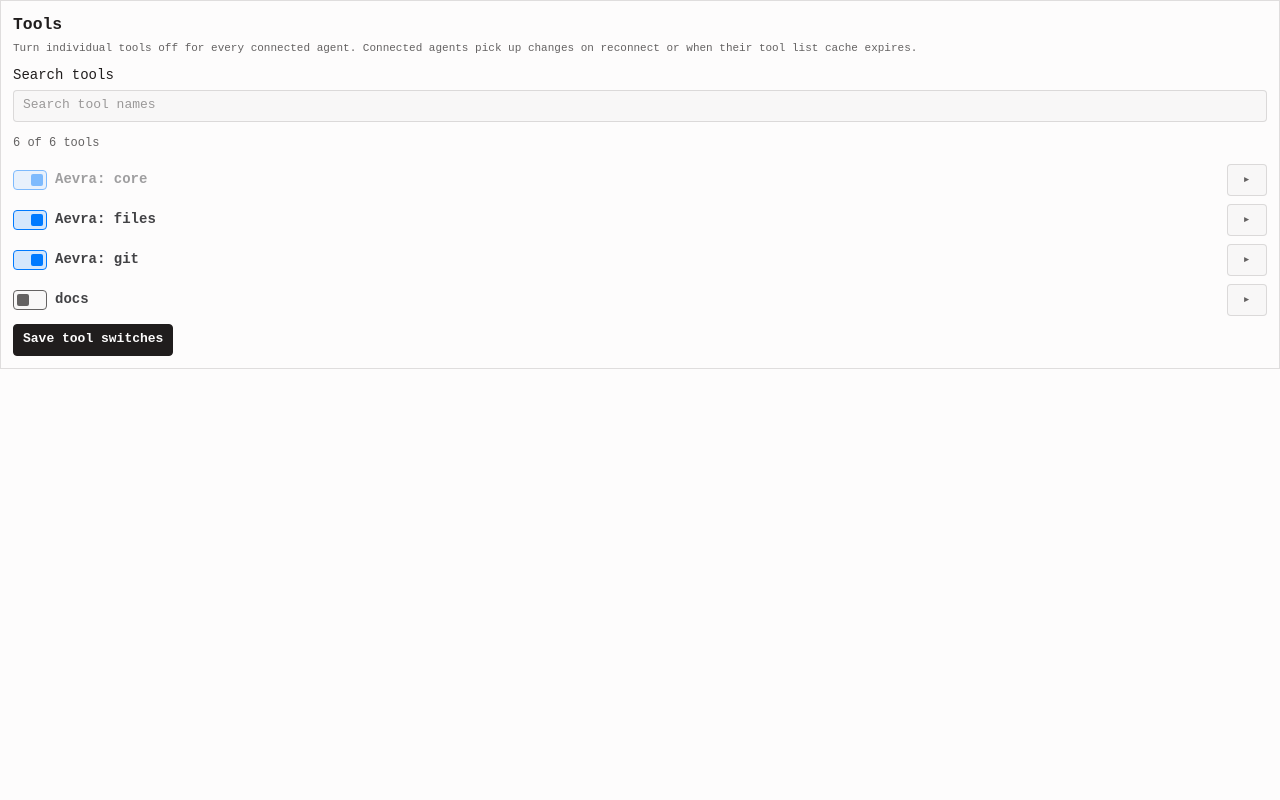
ToolSwitchSettings › saves one PUT with the disabled names and toasts
expect the heading "Tools" is shown: met, box [13,15,62,34]
expect the text "Aevra: files" is shown: met, box [55,211,156,227]
What coordinates should you click on to do the following:
click the button named "Expand Aevra: git"
I would click on:
 (1247, 260)
Its box is [1227,244,1267,276].
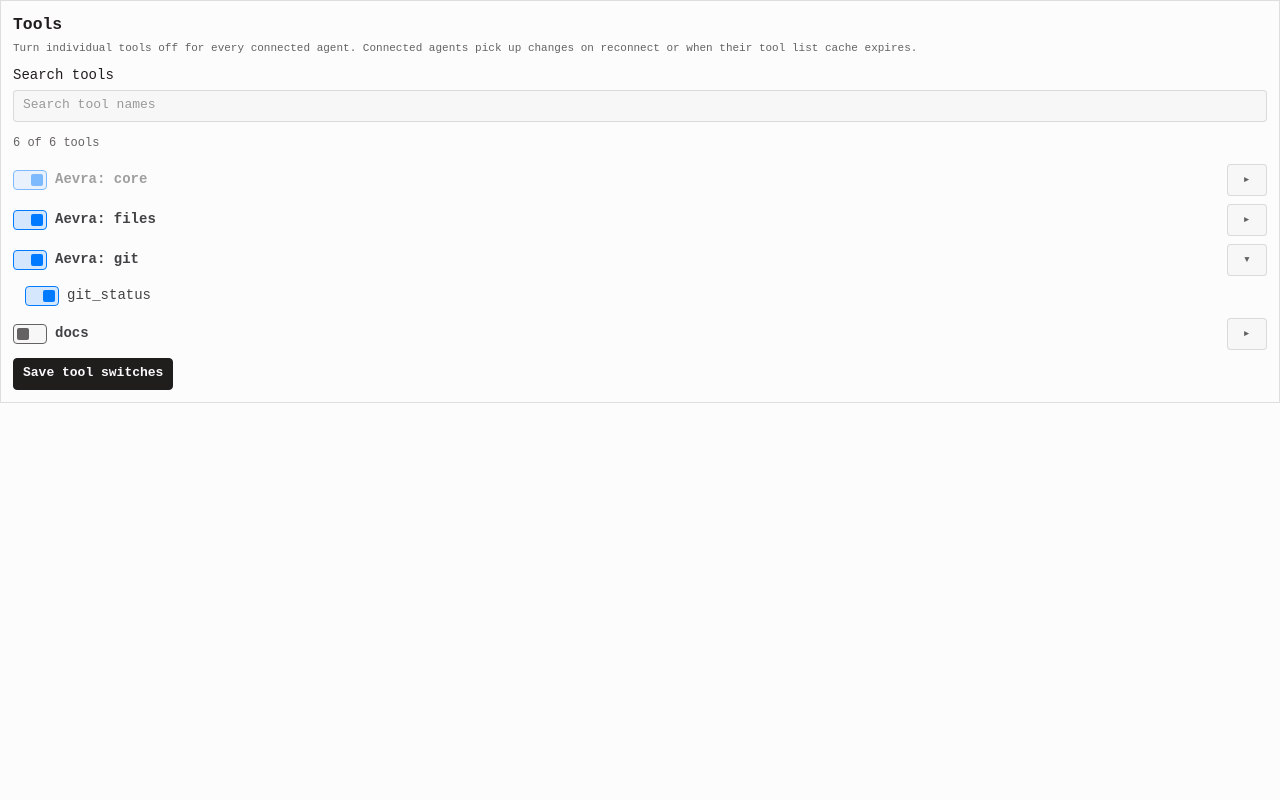
What coordinates should you click on to do the following:
click the switch labelled "git_status"
I would click on:
 (88, 296)
Its box is [25,282,151,310].
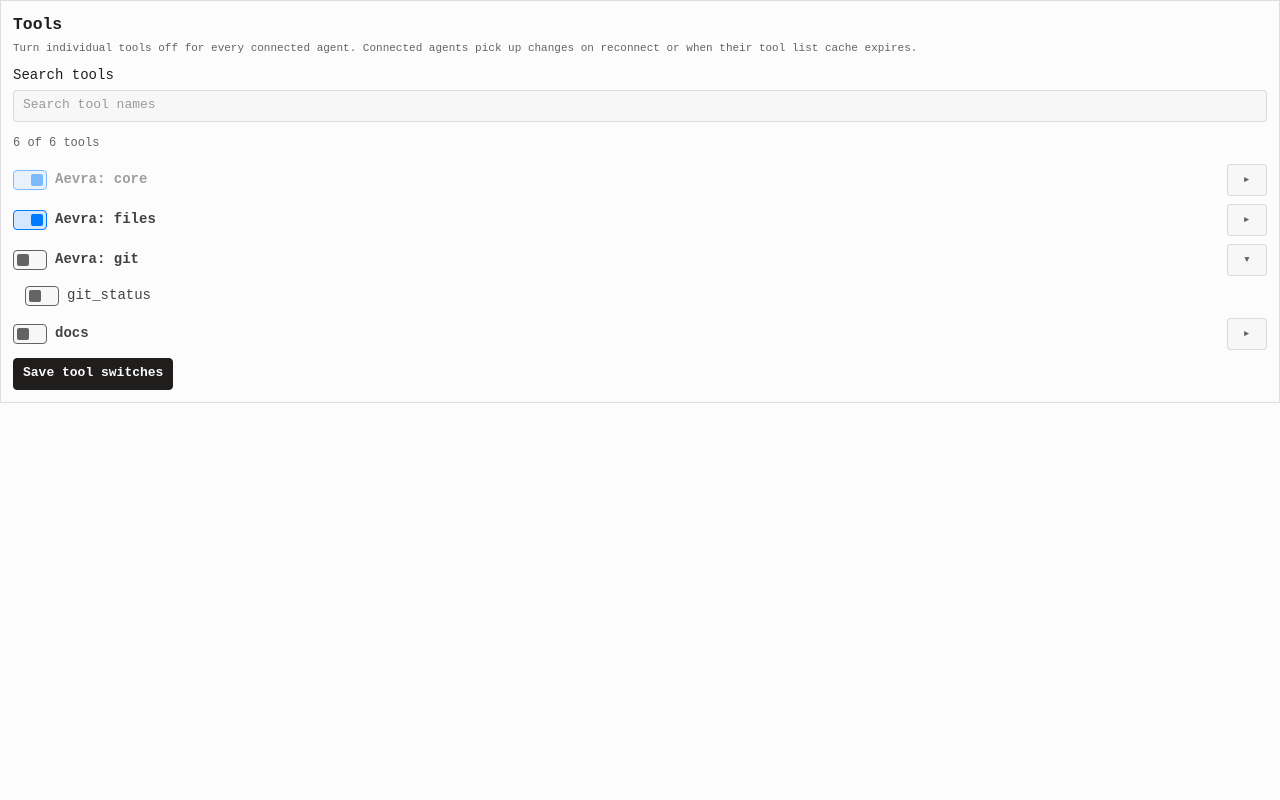
What coordinates should you click on to do the following:
click the button "Save tool switches"
I would click on:
 (93, 374)
Its box is [13,358,173,390].
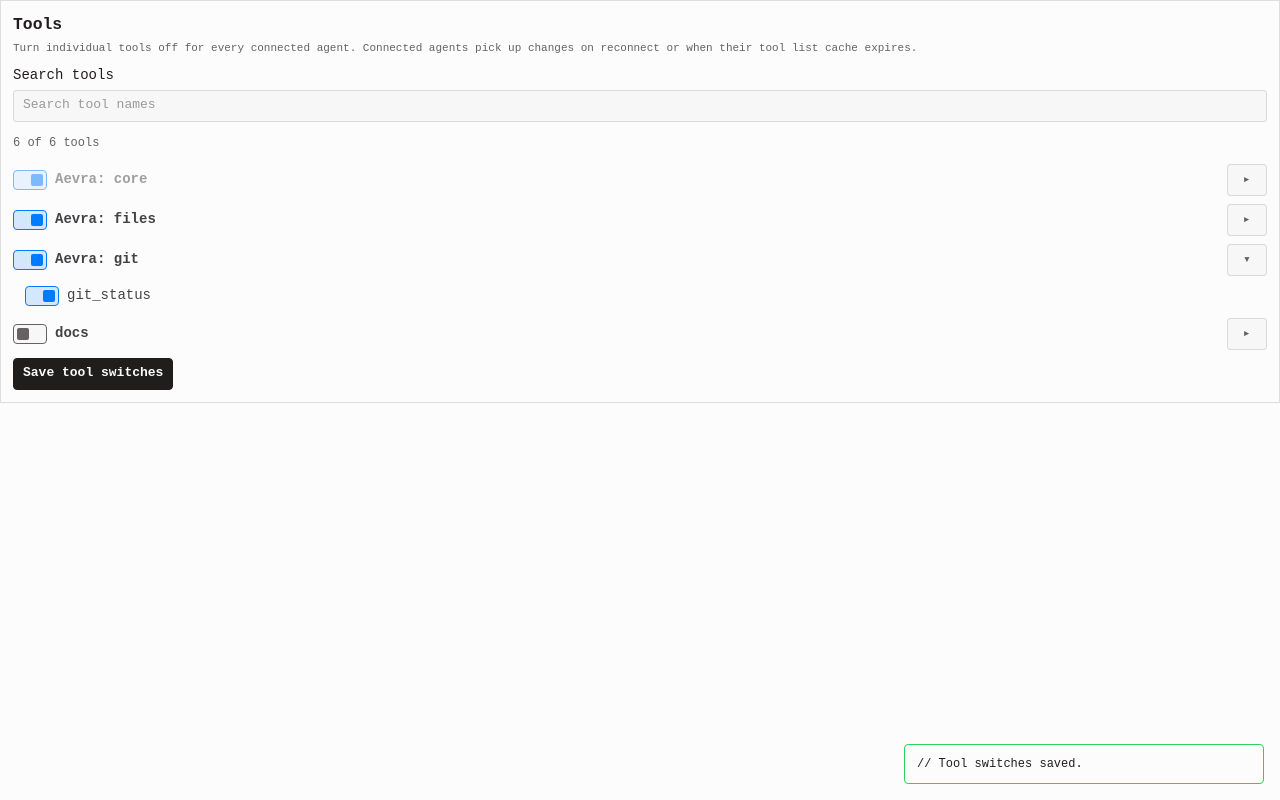
expect the text "Tool switches saved." is shown: met, box [904,744,1264,784]
